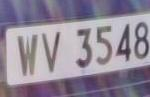3: (71, 23, 96, 75)
4: (114, 19, 134, 68)
5: (93, 22, 116, 72)
8: (132, 17, 150, 68)
V: (40, 28, 65, 80)
W: (14, 30, 41, 83)
